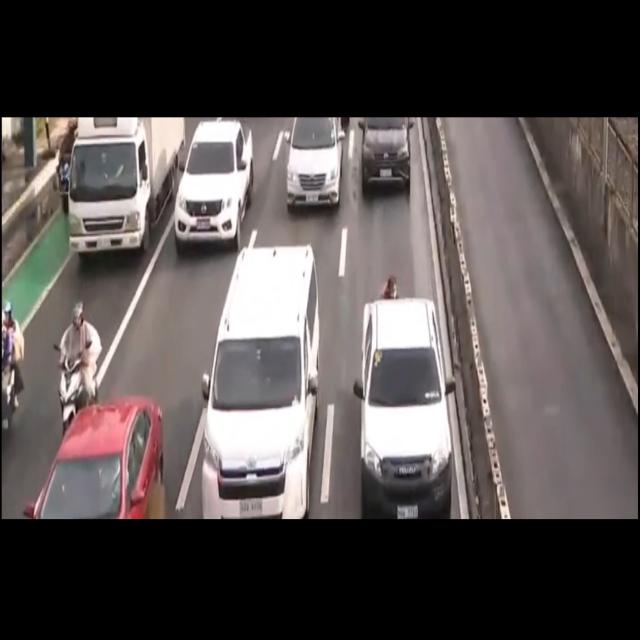Motorcycle: (54, 305, 102, 430), (0, 303, 23, 431)
SUV: (356, 294, 458, 516), (166, 120, 257, 258), (280, 115, 348, 214), (360, 121, 417, 200)
Sedan: (25, 400, 163, 519)
Truck: (68, 119, 188, 268)
Van: (200, 242, 324, 522)
